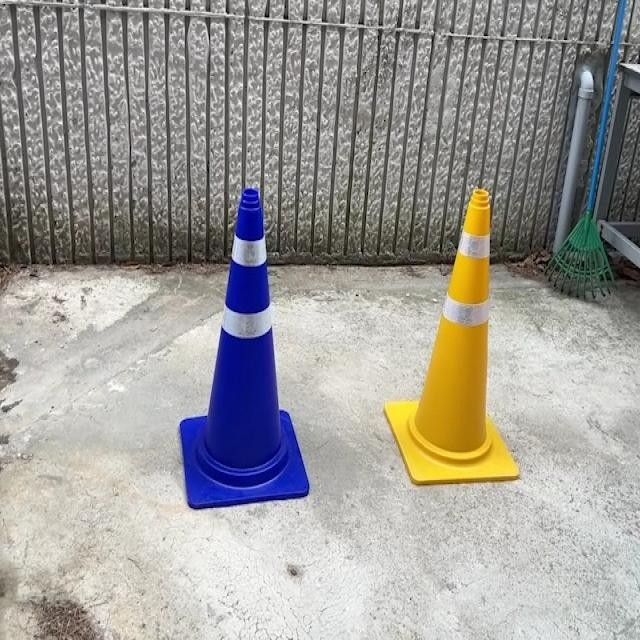b_rub: (180, 188, 309, 509)
y_rub: (385, 189, 520, 485)
